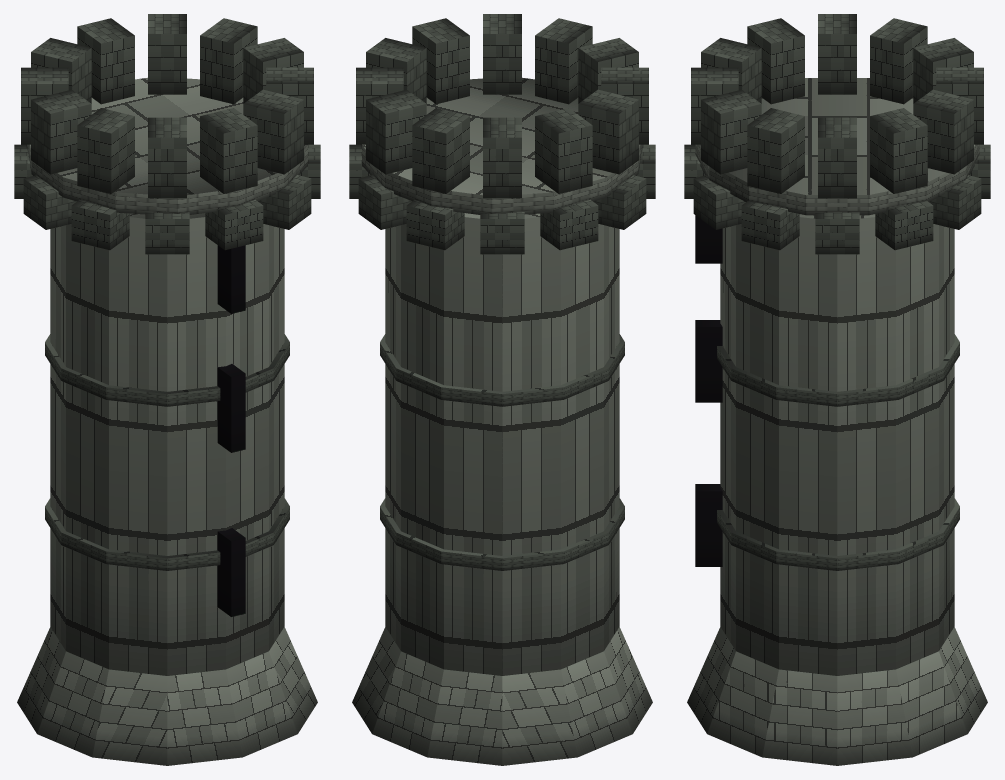
Rendered from tower_round_tall.gltf.
3 renders of one model, left to right at view 1: azimuth 30°, elevation 25°; view 2: azimuth 150°, elevation 25°; view 3: azimuth 270°, elevation 25°, orthographic.
Visible parts, largest first — view 1: tower_round_tall; view 2: tower_round_tall; view 3: tower_round_tall.
Part boxes in pixels (x1,y1,x2,y2): tower_round_tall: [14, 14, 320, 765]; tower_round_tall: [349, 14, 655, 765]; tower_round_tall: [684, 14, 990, 765].
Bounding box in the file's own units: 1.1 × 2.48 × 1.1.
1 material, 1 textured.
